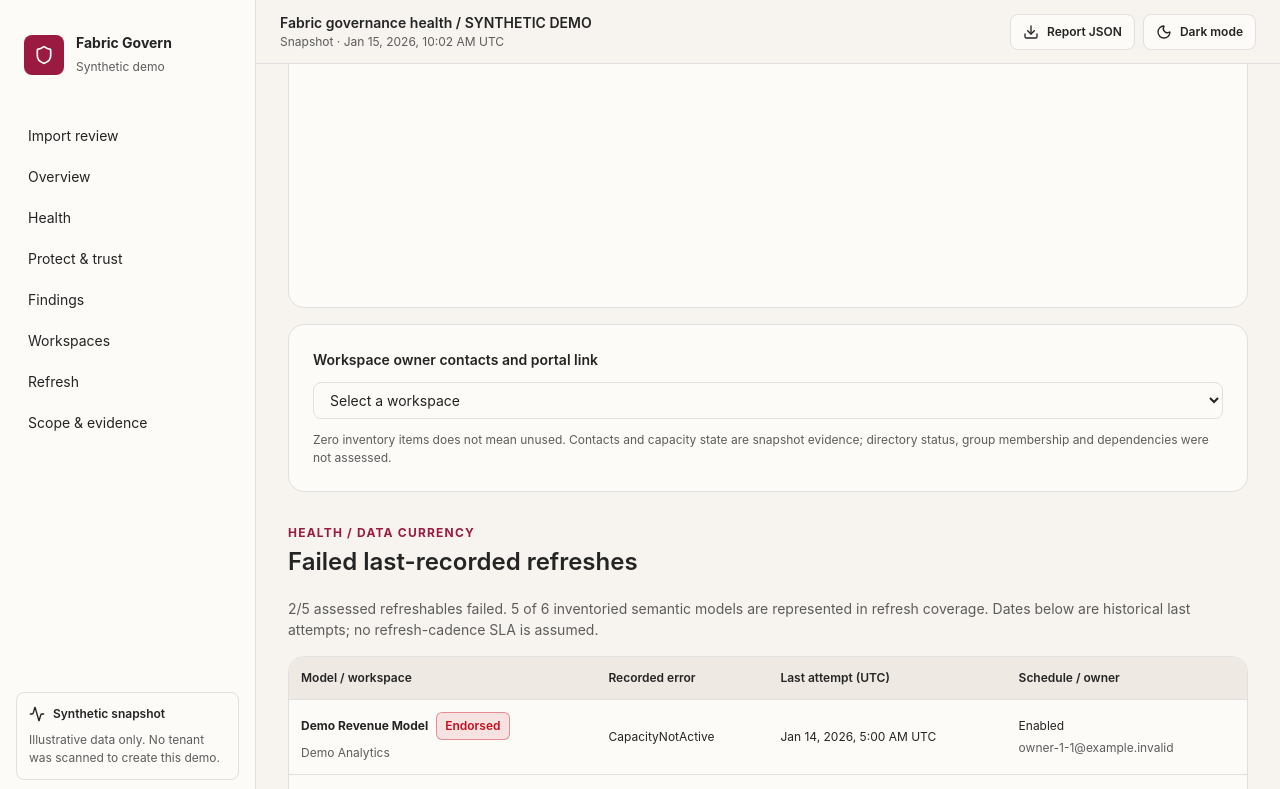
Test case: App › shows supplied owner contacts without linking synthetic IDs to real Fabric
(page scrolled)
Select "Demo Analytics" in the dropdown labelled "Workspace owner contacts and portal link" at (768, 400), box [313,382,1223,419]
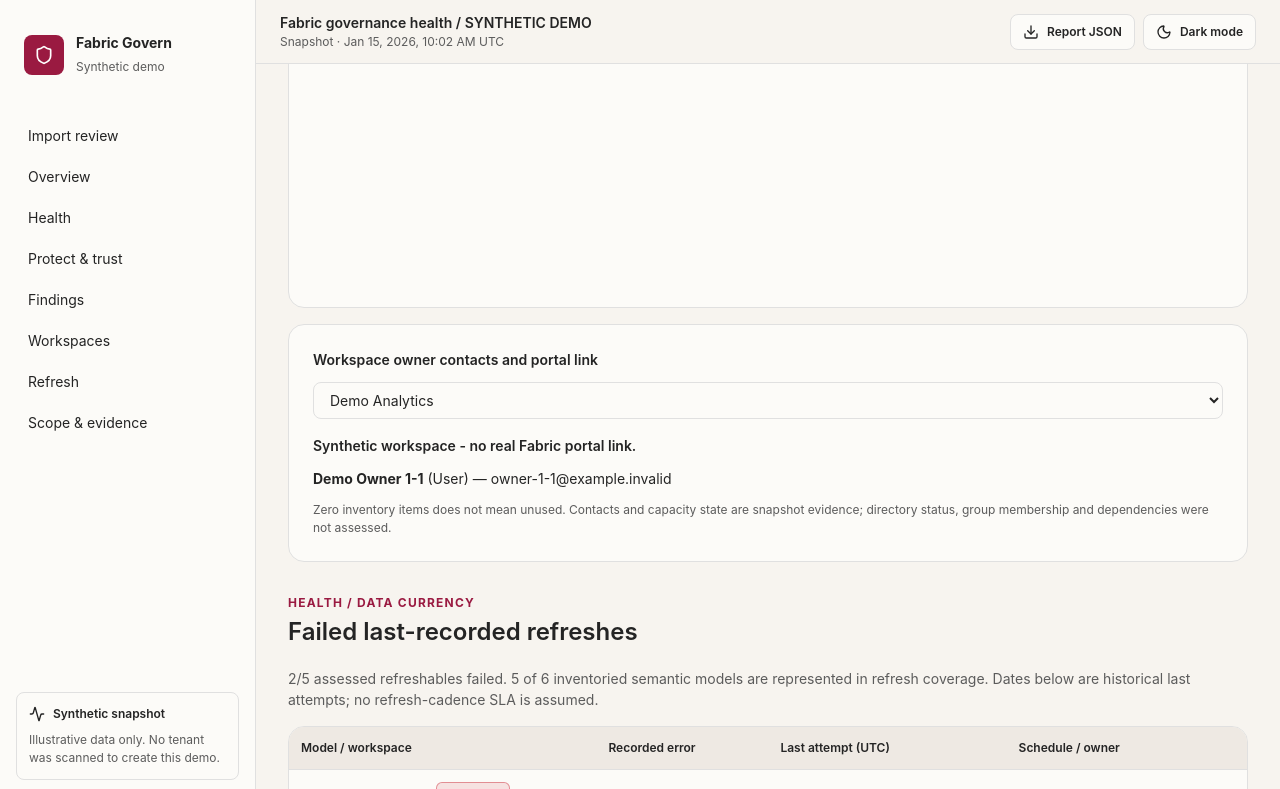
Check: the text "Synthetic workspace - no real Fabric portal link." is shown, box [313,437,636,454]
